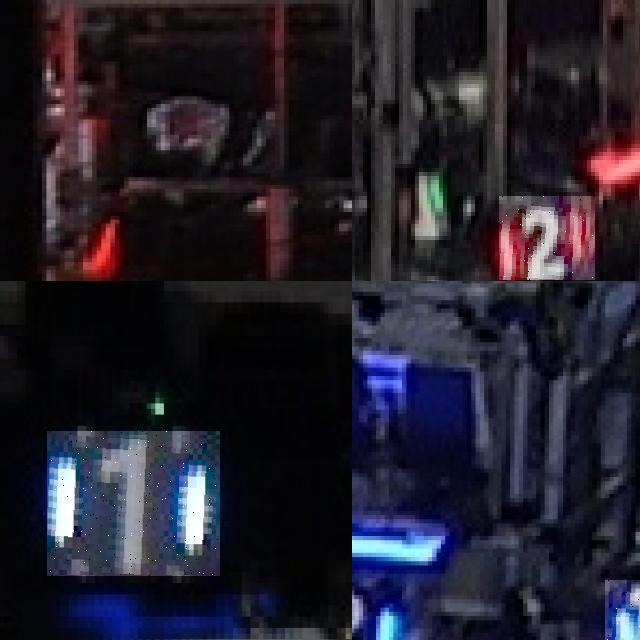B1: (47, 432, 220, 578)
B2: (352, 580, 408, 640), (605, 580, 640, 640)
R2: (499, 196, 595, 280)
